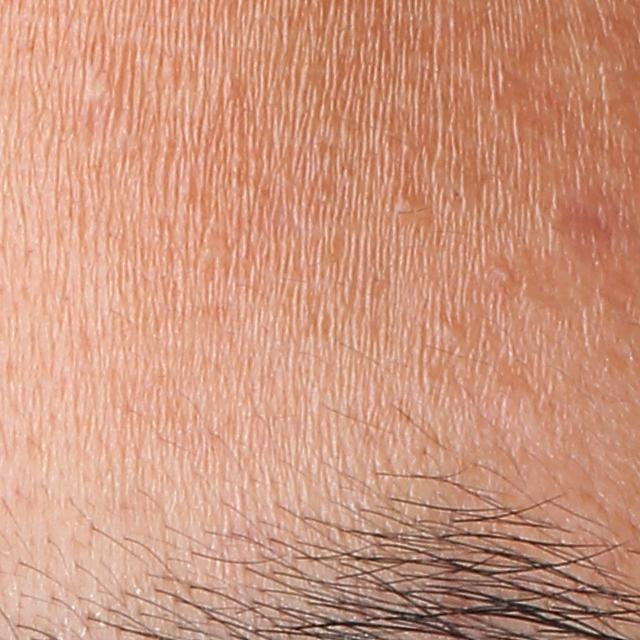comedo: (74, 67, 121, 105), (494, 261, 520, 291), (394, 193, 422, 218)
